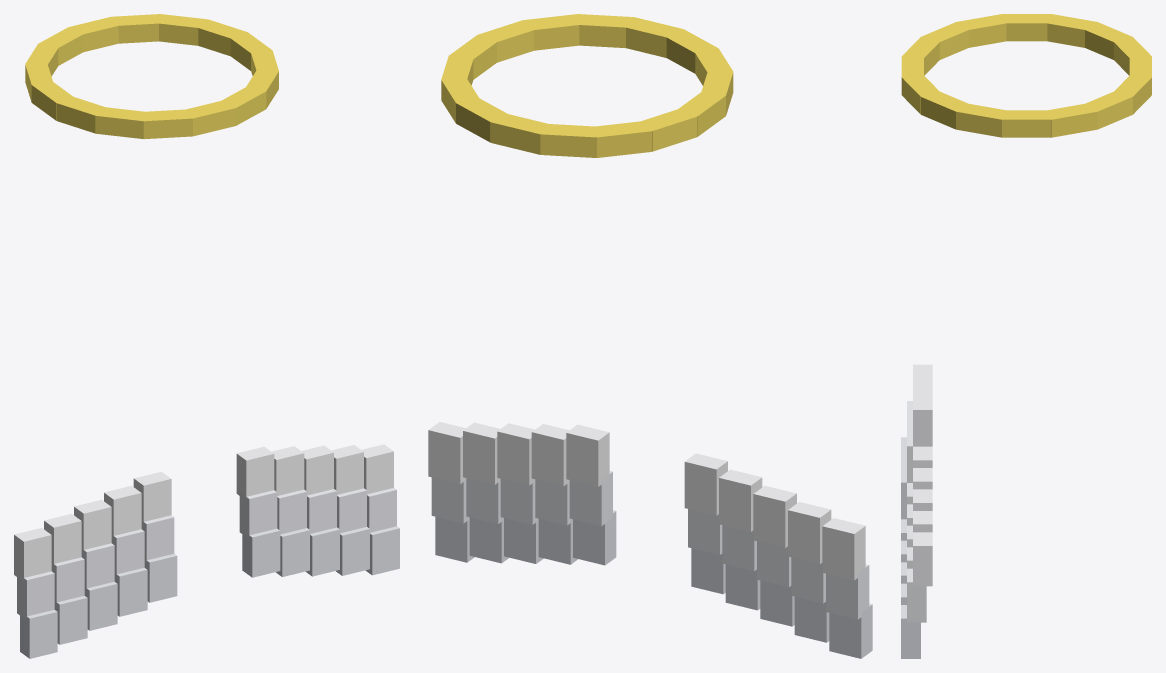
File: aureola_asas_anjo.glb
The picture shows the model from 3 angles, left to right: view 1: azimuth 30°, elevation 25°; view 2: azimuth 150°, elevation 25°; view 3: azimuth 270°, elevation 25°; orthographic projection. The views are drawn at different scales.
Visible parts, largest first — view 1: aureola_asas_anjo; view 2: aureola_asas_anjo; view 3: aureola_asas_anjo.
Part boxes in pixels (x1,y1,x2,y2): aureola_asas_anjo: (14, 14, 399, 658); aureola_asas_anjo: (428, 14, 872, 658); aureola_asas_anjo: (901, 14, 1151, 658).
Size of the model in its own units: 0.865 by 1.12 by 0.5065.
